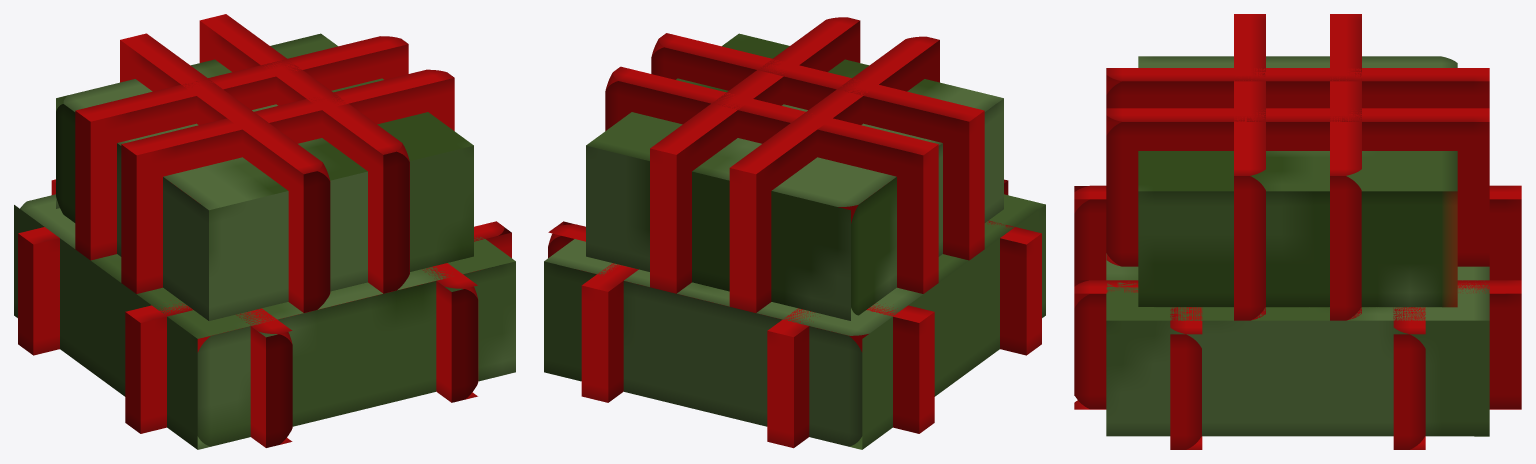
The model's file is missile_head_frag.obj.
3 renders of one model, left to right at view 1: azimuth 30°, elevation 25°; view 2: azimuth 150°, elevation 25°; view 3: azimuth 270°, elevation 25°, orthographic. The views are drawn at different scales.
Parts seen in each view (by area): view 1: Component_38, group_12, group_13, Component_37; view 2: Component_38, group_12, group_13, Component_37; view 3: Component_38, group_12, group_13, Component_37.
Part boxes in pixels (left/top/right/bottom): Component_38: left=75, top=14, right=454, bottom=312; group_12: left=14, top=194, right=515, bottom=449; group_13: left=56, top=33, right=473, bottom=320; Component_37: left=18, top=179, right=511, bottom=447; Component_38: left=605, top=17, right=984, bottom=312; group_12: left=544, top=194, right=1045, bottom=449; group_13: left=586, top=33, right=1003, bottom=320; Component_37: left=548, top=179, right=1041, bottom=448; Component_38: left=1106, top=14, right=1489, bottom=320; group_12: left=1106, top=253, right=1489, bottom=436; group_13: left=1138, top=56, right=1457, bottom=307; Component_37: left=1074, top=185, right=1521, bottom=449.
Bounding box in the file's own units: 88.19 × 56.69 × 88.19.
